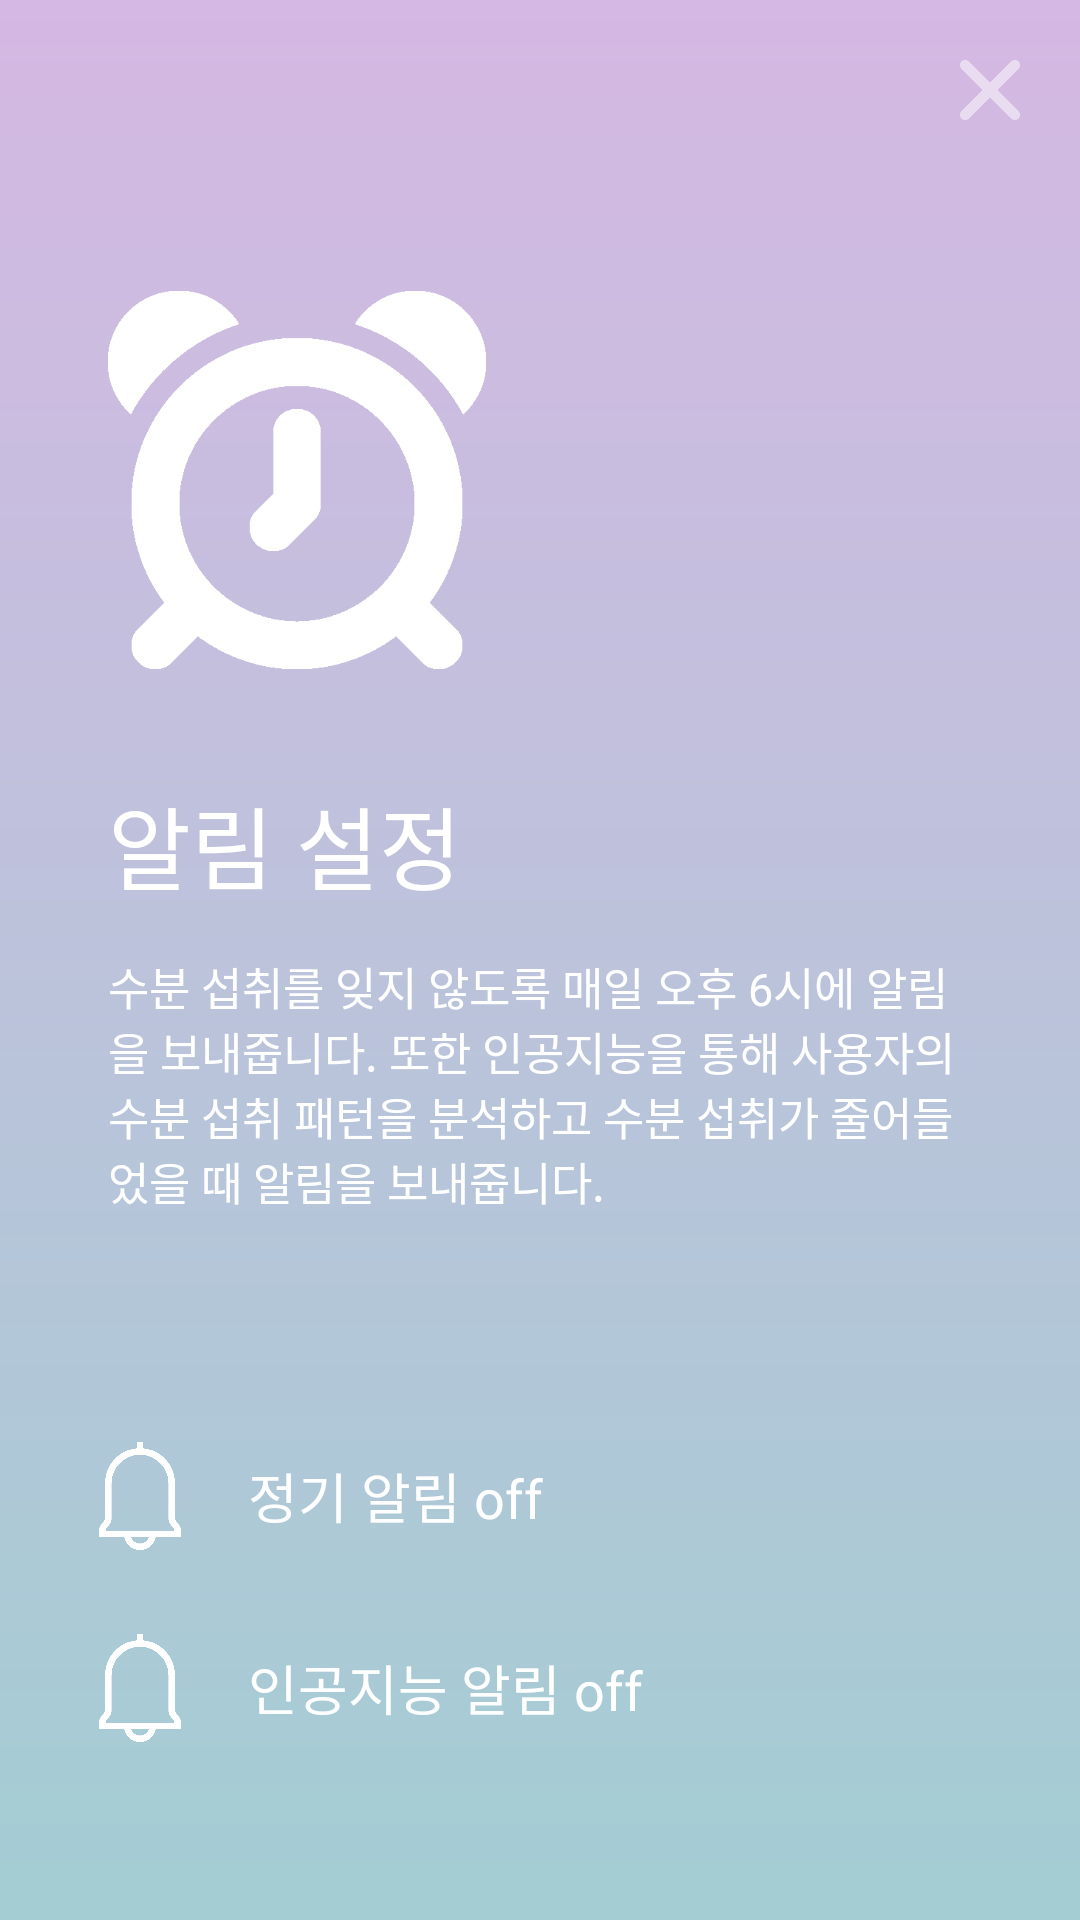

Where icons sit on this 1080w x 1920h app screen, as (x1, y1, x2, y2):
나가기 버튼: (960, 60, 1020, 120)
